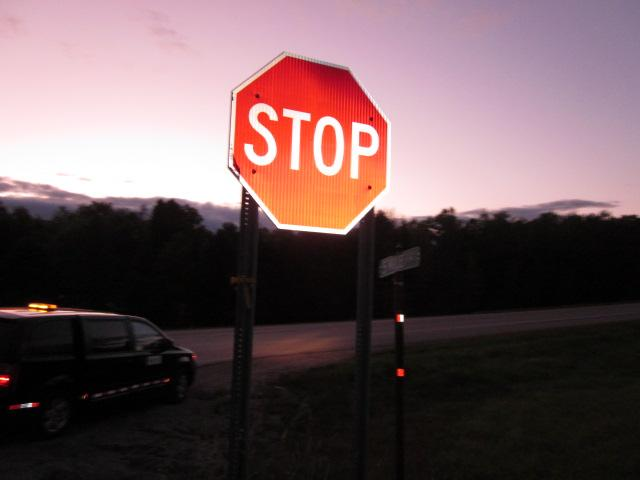stop: (222, 44, 397, 237)
